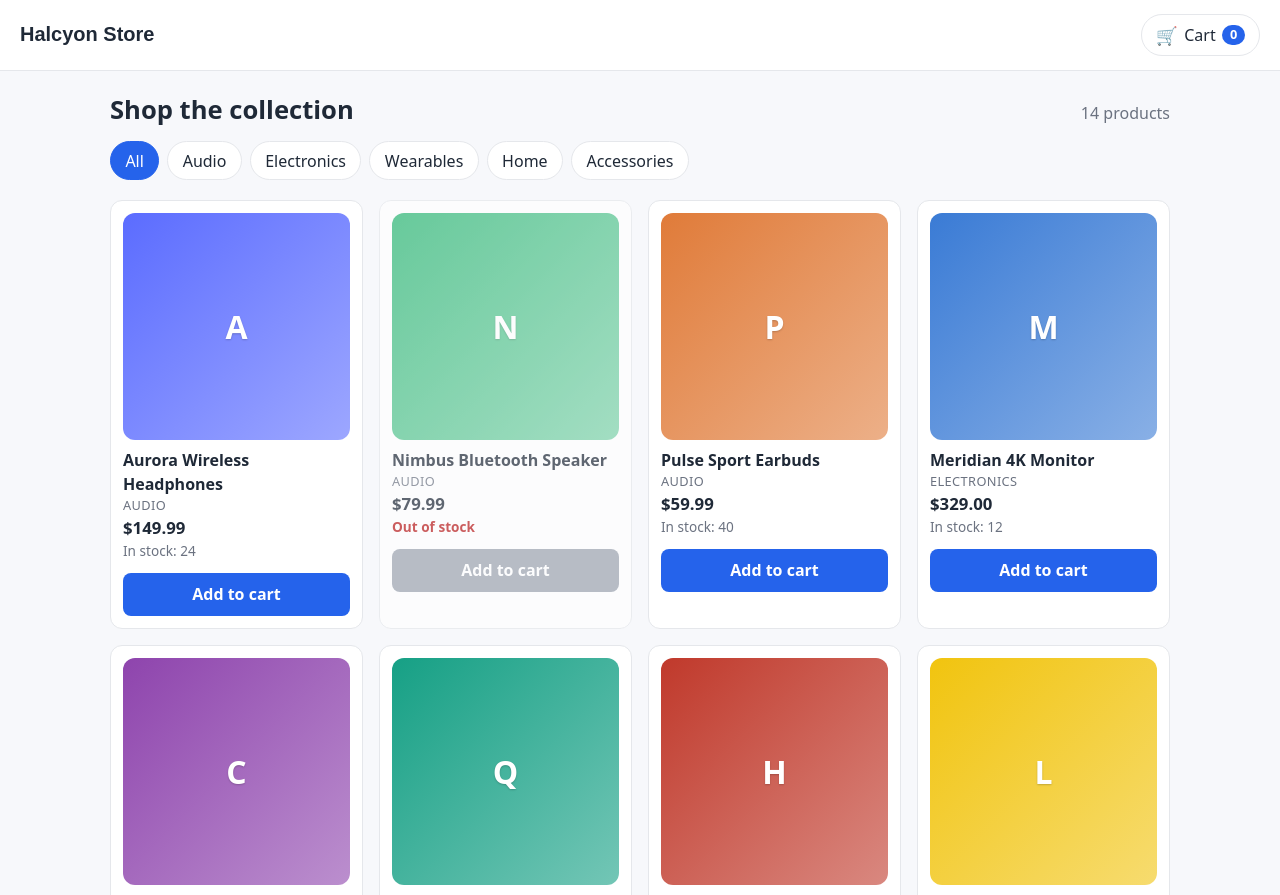
Scenario: Retail storefront browsing experience › add-to-cart updates the cart indicator without a page reload
The width and height of the screenshot is (1280, 895).
expect the text with test id "cart-count" reads "0": met, box [1230,25,1237,43]
Click the 4th button with test id "add-to-cart": (236, 594) [123,573,350,616]
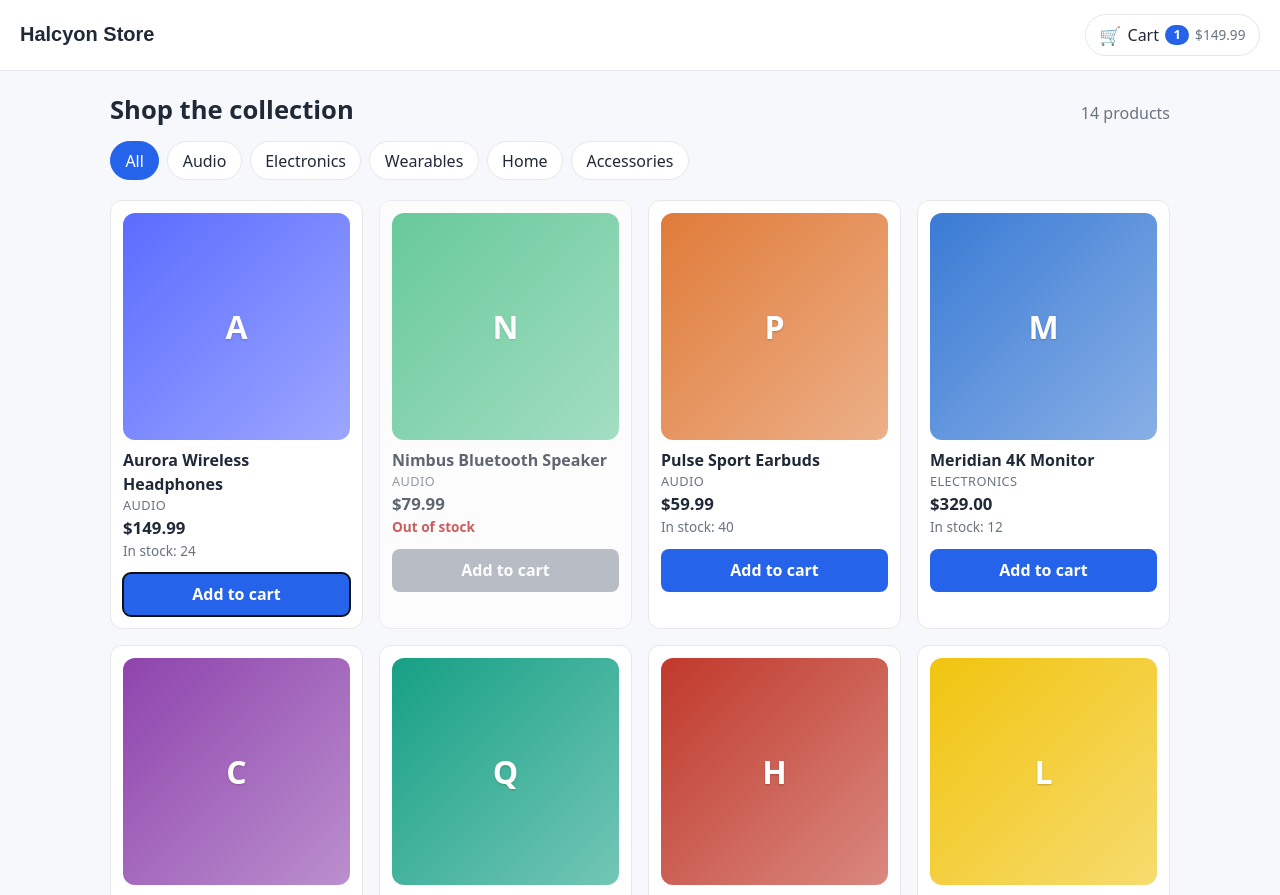
expect the text with test id "cart-count" reads "1": met, box [1173,25,1181,43]
